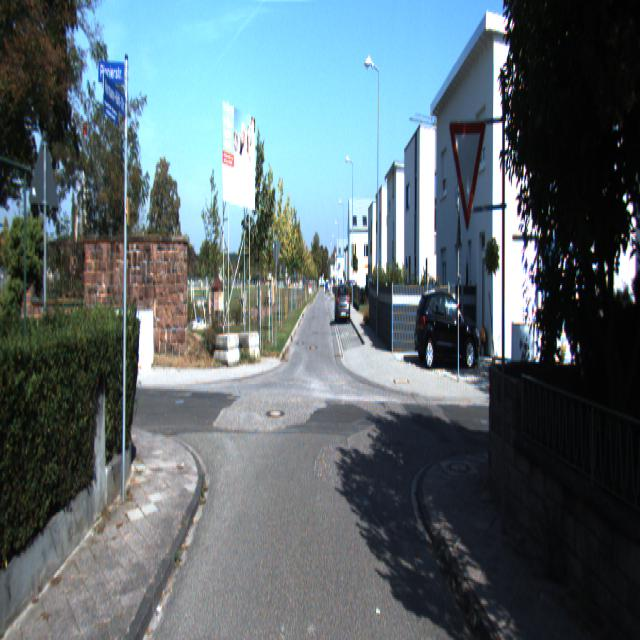Car: (412, 282, 482, 370), (334, 282, 350, 322)
